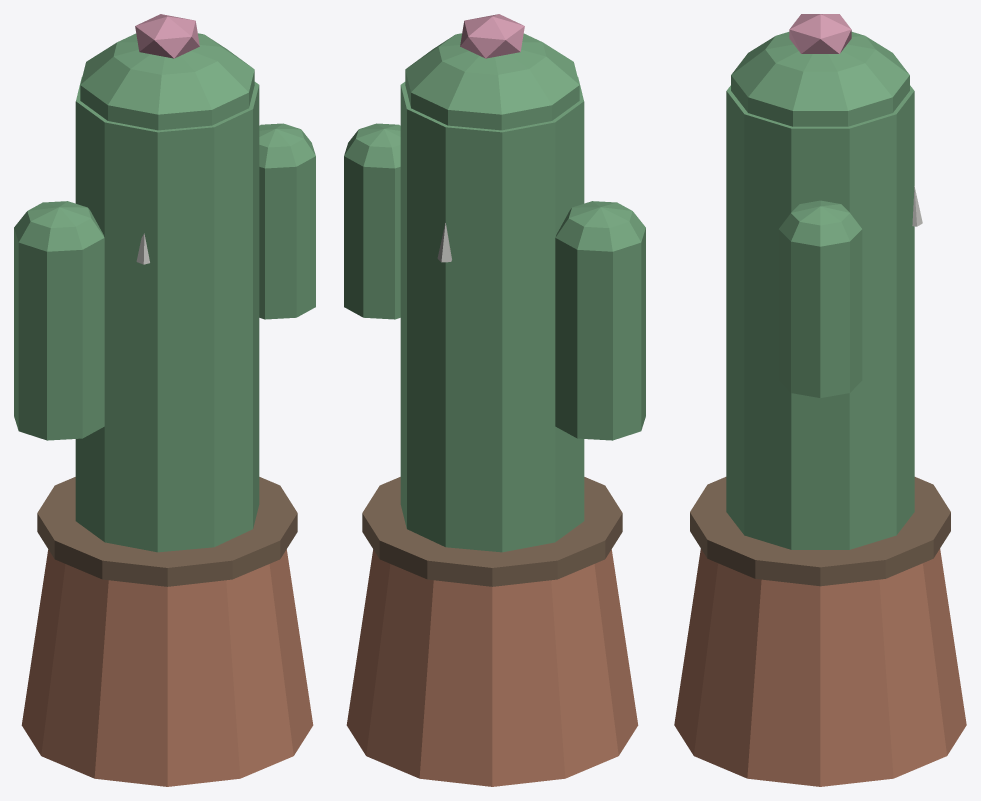
Rendered from planta_cacto2.glb.
The picture shows the model from 3 angles, left to right: view 1: azimuth 30°, elevation 25°; view 2: azimuth 150°, elevation 25°; view 3: azimuth 270°, elevation 25°; orthographic projection.
Parts seen in each view (by area): view 1: PLANTA_CACTO2; view 2: PLANTA_CACTO2; view 3: PLANTA_CACTO2.
Part boxes in pixels (x1,y1,x2,y2): PLANTA_CACTO2: (14,14,315,786); PLANTA_CACTO2: (344,14,645,786); PLANTA_CACTO2: (674,14,966,786).
Size of the model in its own units: 0.325 by 0.751 by 0.28.
